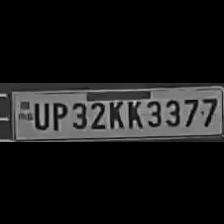2: (88, 97, 106, 129)
3: (68, 98, 86, 130), (144, 95, 162, 127), (162, 96, 180, 127)
7: (199, 94, 217, 126), (180, 96, 198, 127)
K: (106, 97, 124, 129), (124, 96, 142, 128)
P: (50, 98, 66, 130)
U: (32, 98, 48, 130)
